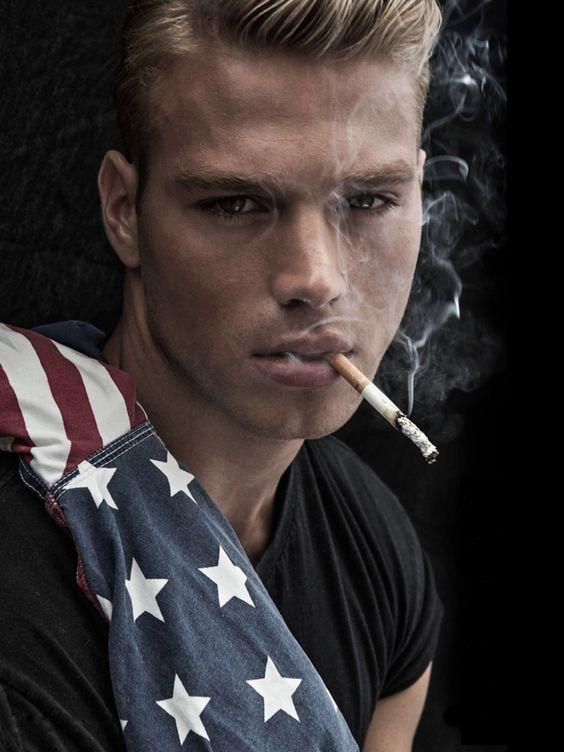cigarette: (322, 352, 439, 465)
